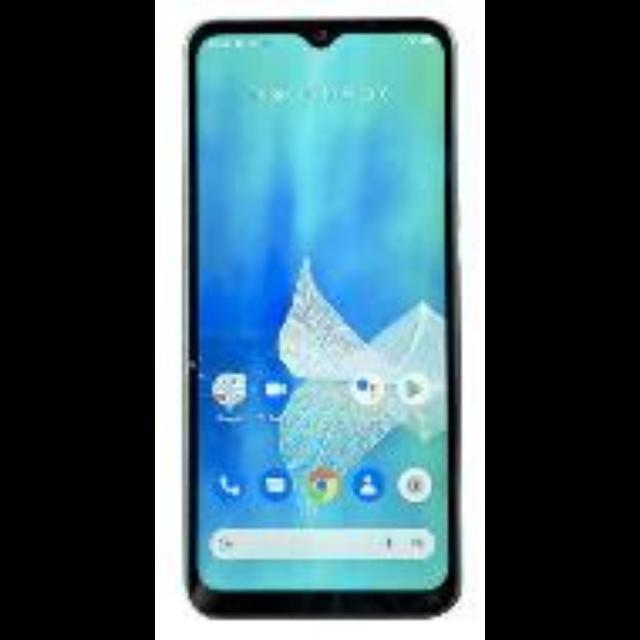PhoneUse: (185, 18, 461, 616)
